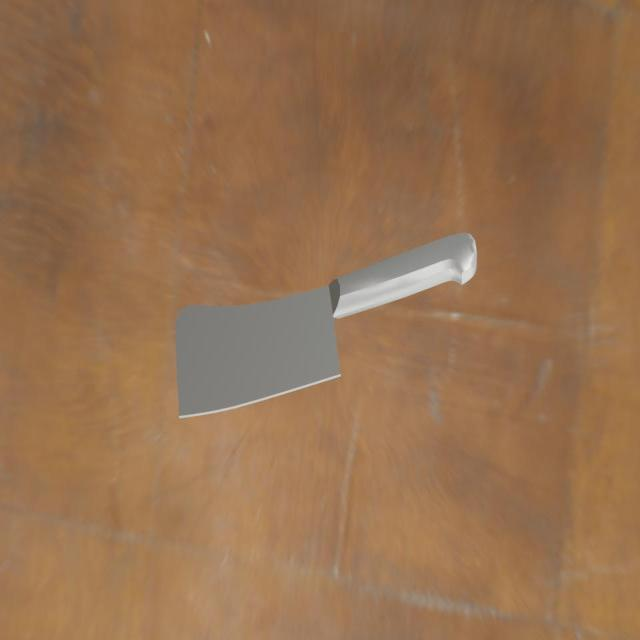knife: (329, 229, 484, 319)
